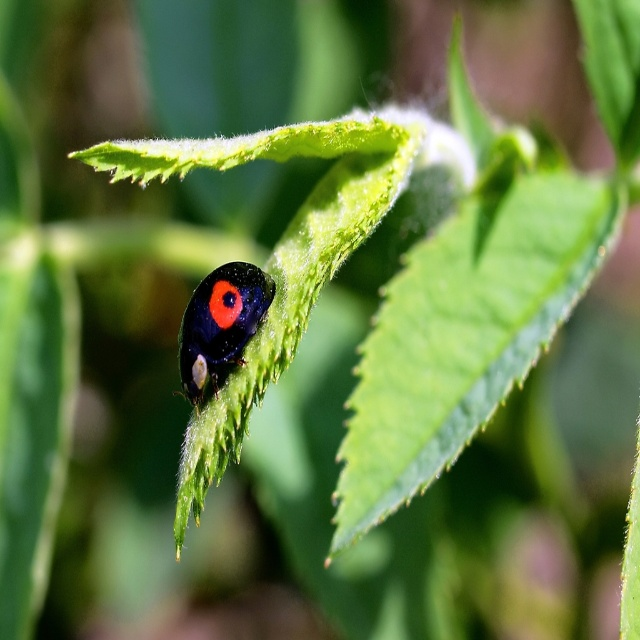Ladybug: (176, 261, 276, 412)
